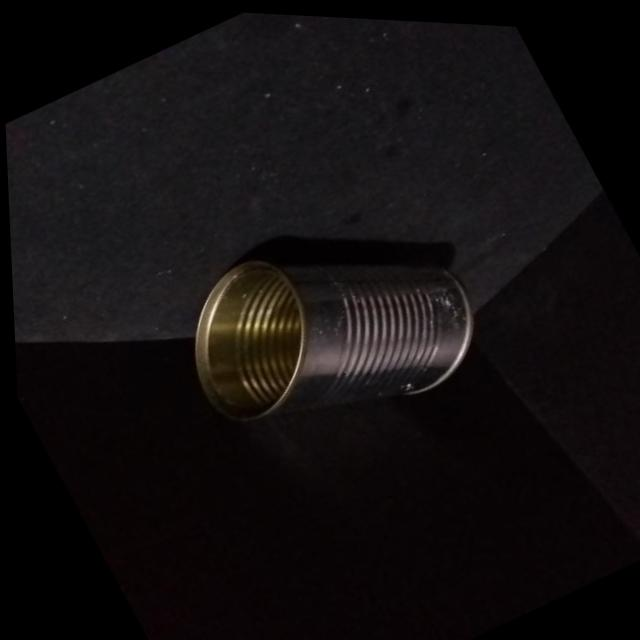metal: (195, 238, 472, 418)
